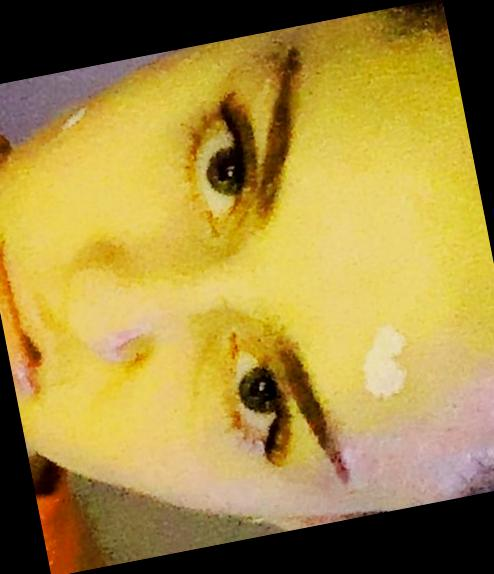Acne: (352, 318, 420, 404)
